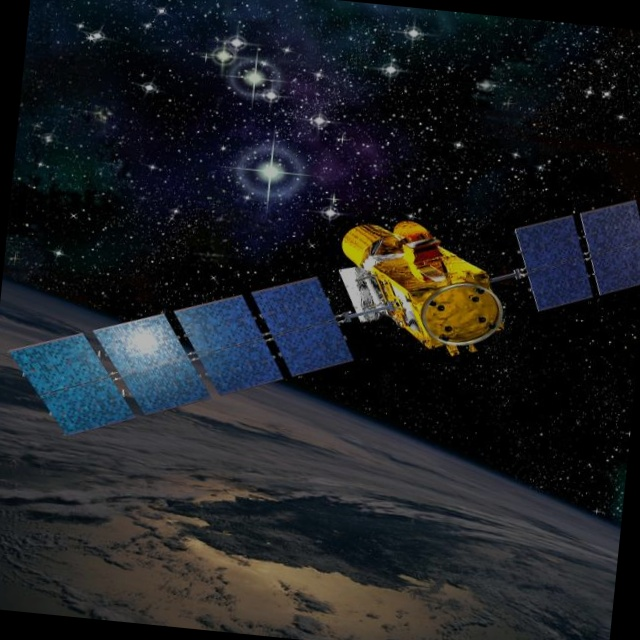medium_debris: (0, 124, 640, 500)
